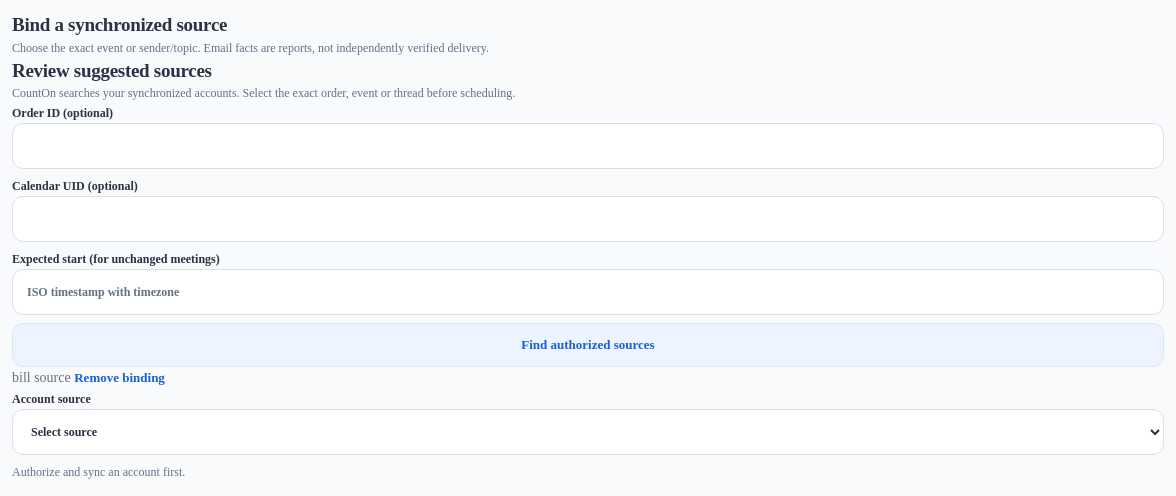
Test case: refreshes shared detail only after a successful source removal (failure=false)
Click the button "Remove binding": [120, 378] box top-left (74, 368), bottom-right (165, 389)
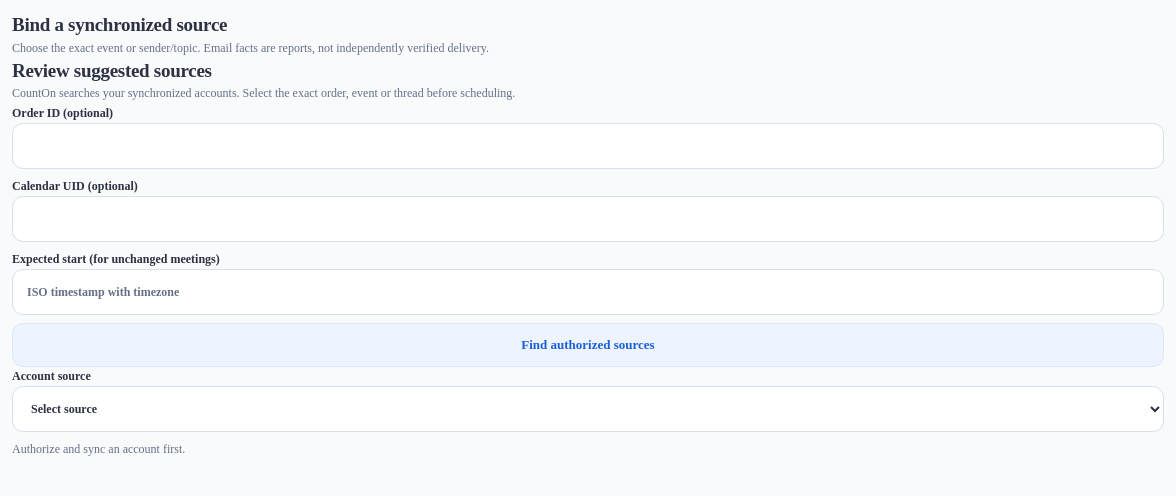
Expected: the button "Remove binding" is gone
